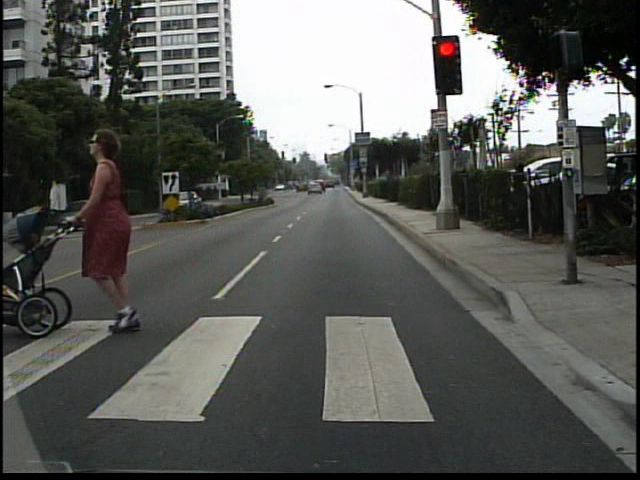person: (75, 127, 163, 335)
